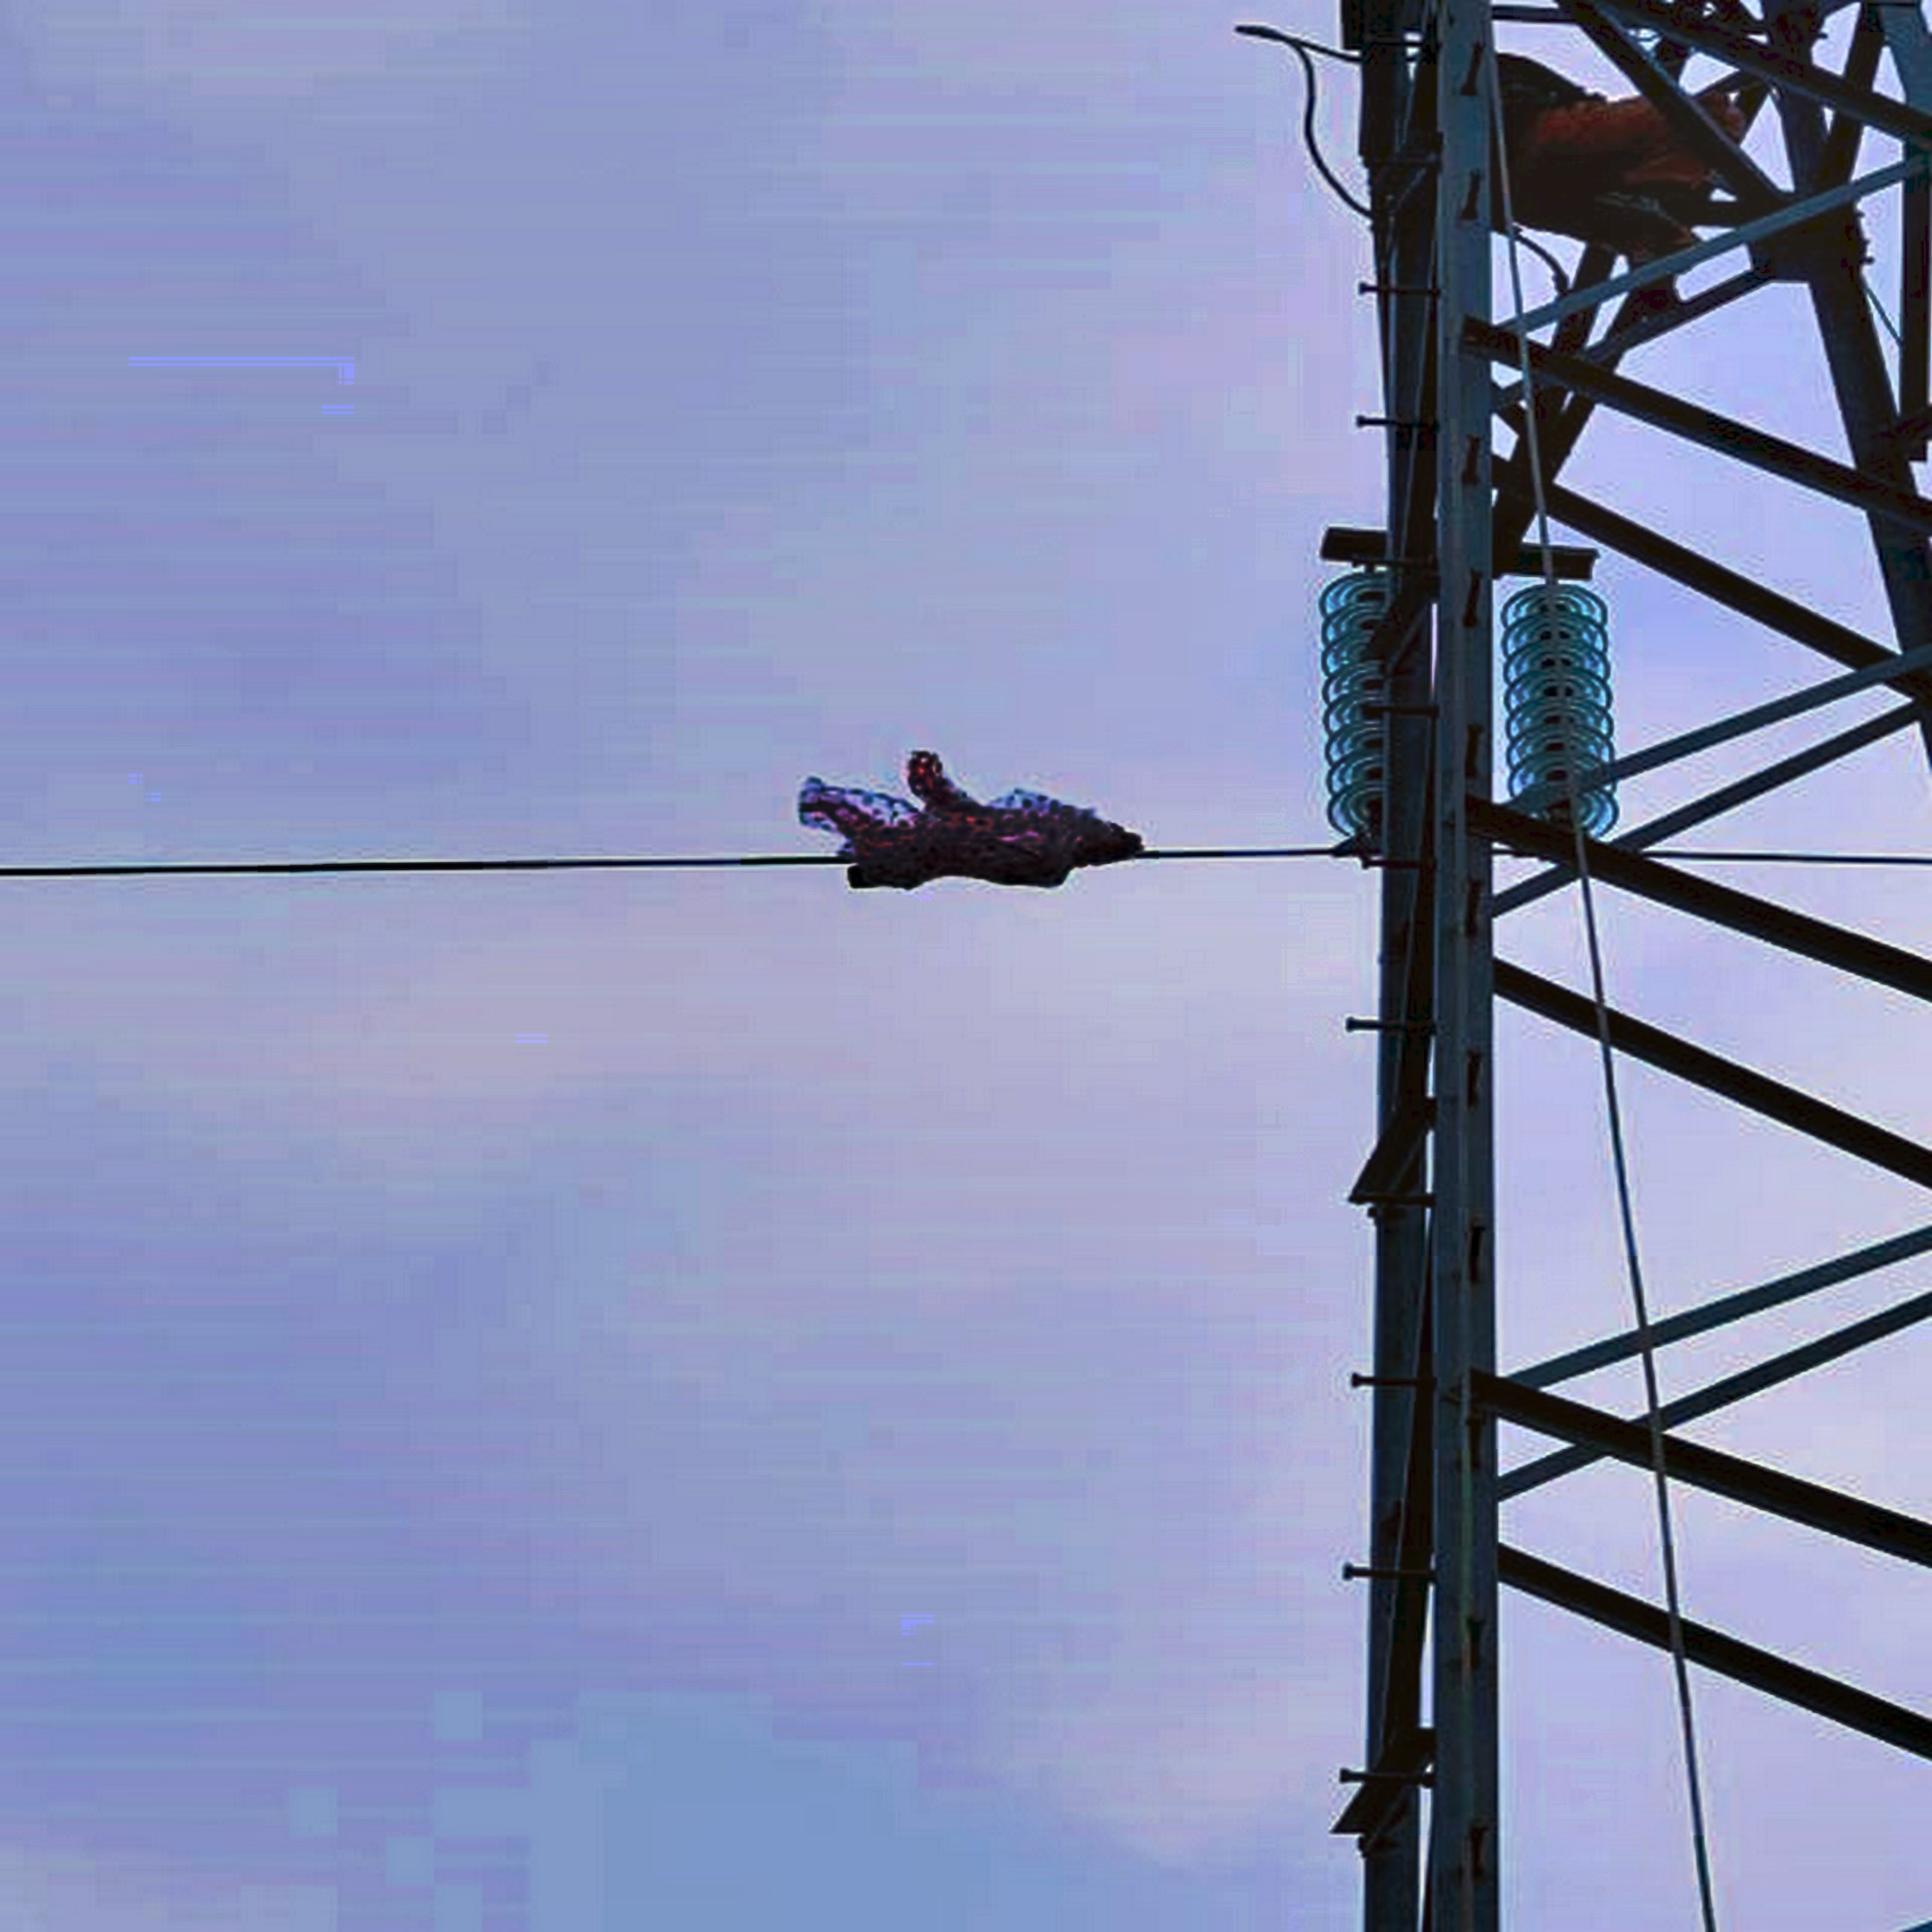wire foreign body: (770, 727, 1185, 931)
